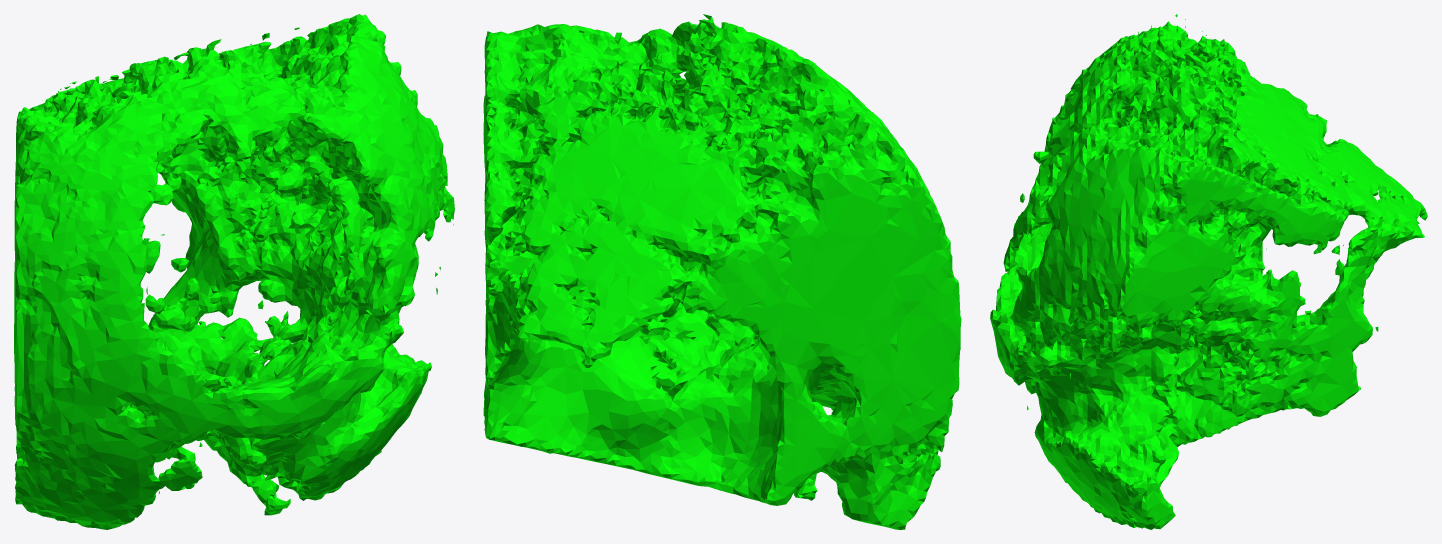
File: B939XXXX-1_base_10.obj
The picture shows the model from 3 angles, left to right: view 1: azimuth 30°, elevation 25°; view 2: azimuth 150°, elevation 25°; view 3: azimuth 270°, elevation 25°; orthographic projection. The views are drawn at different scales.
Visible parts, largest first — view 1: 10_base; view 2: 10_base; view 3: 10_base.
Part boxes in pixels (<box>): 10_base: <box>14,14,454,529</box>; 10_base: <box>483,14,961,529</box>; 10_base: <box>990,14,1427,529</box>.
Bounding box in the file's own units: 220 × 218 × 205.
